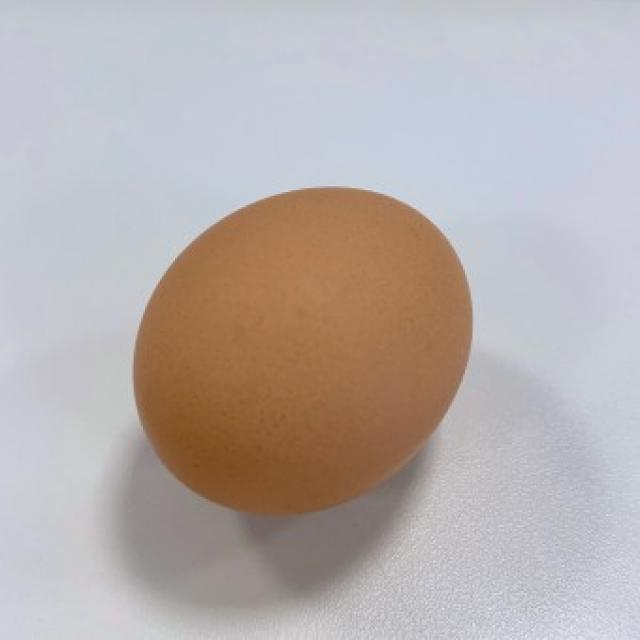eggs: (129, 180, 478, 526)
